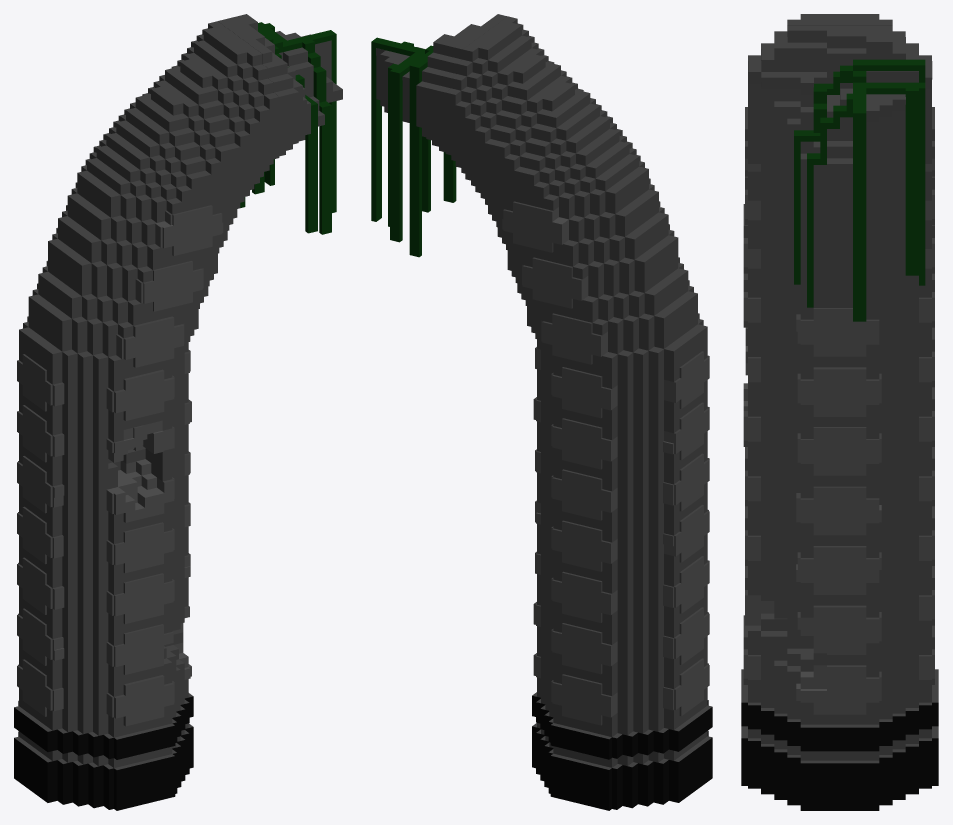
The model's file is New Archway.fbx.
3 views of the same model, side by side, from view 1: azimuth 30°, elevation 25°; view 2: azimuth 150°, elevation 25°; view 3: azimuth 270°, elevation 25° (orthographic). The views are drawn at different scales.
Parts seen in each view (by area): view 1: Cube; view 2: Cube; view 3: Cube.
Boxes of the visible parts, x1=… form: Cube: x1=14, y1=14, x2=342, y2=810; Cube: x1=371, y1=14, x2=712, y2=810; Cube: x1=741, y1=14, x2=938, y2=810.
Bounding box in the file's own units: 400 × 863 × 188.
